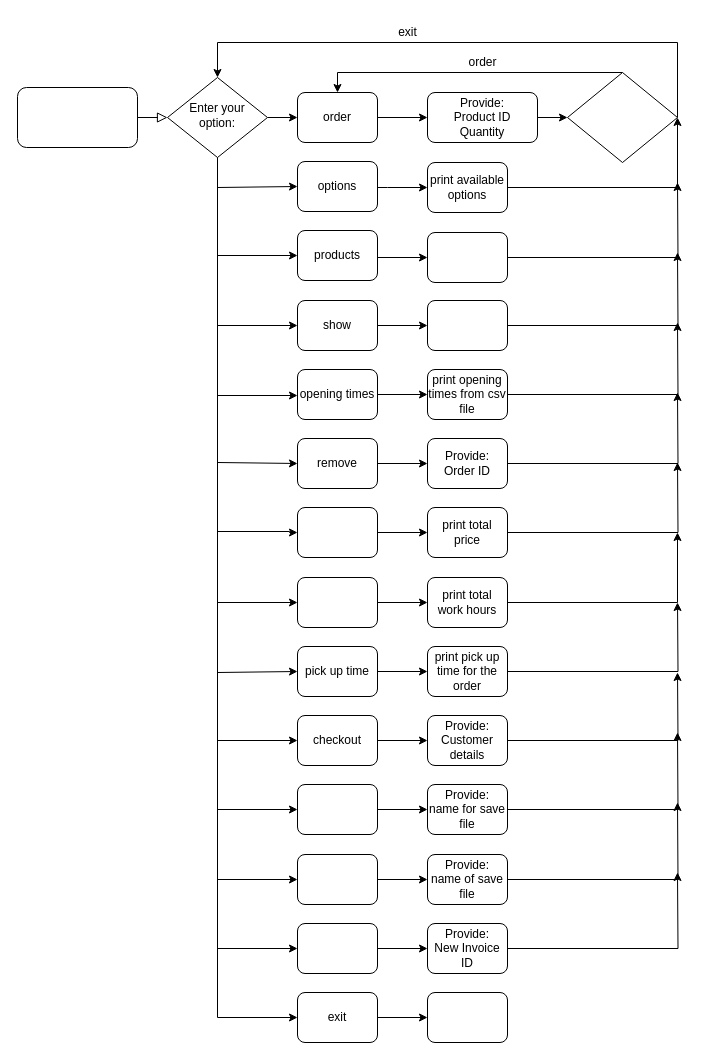
This 704x1060 diagram has some shape labels left out. The centre of each missing label's shape, as x and y in pixels:
Do you want to order more?: point 622,117
invoice: point 337,948
load: point 337,879
print orders: point 467,325
print products from csv file: point 467,257
save: point 337,809
Thank you for shopping!: point 467,1017
total price: point 337,532
total work hours: point 337,602
Welcome to the Photoshop! What would you like to do: point 77,117
